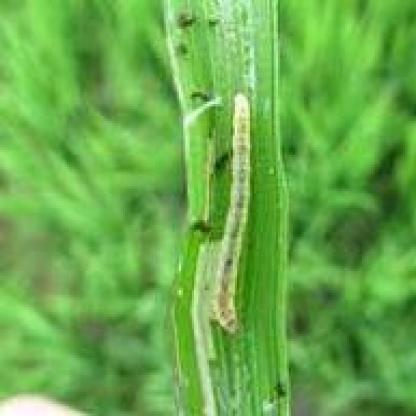leaf-folder: (212, 84, 256, 344)
